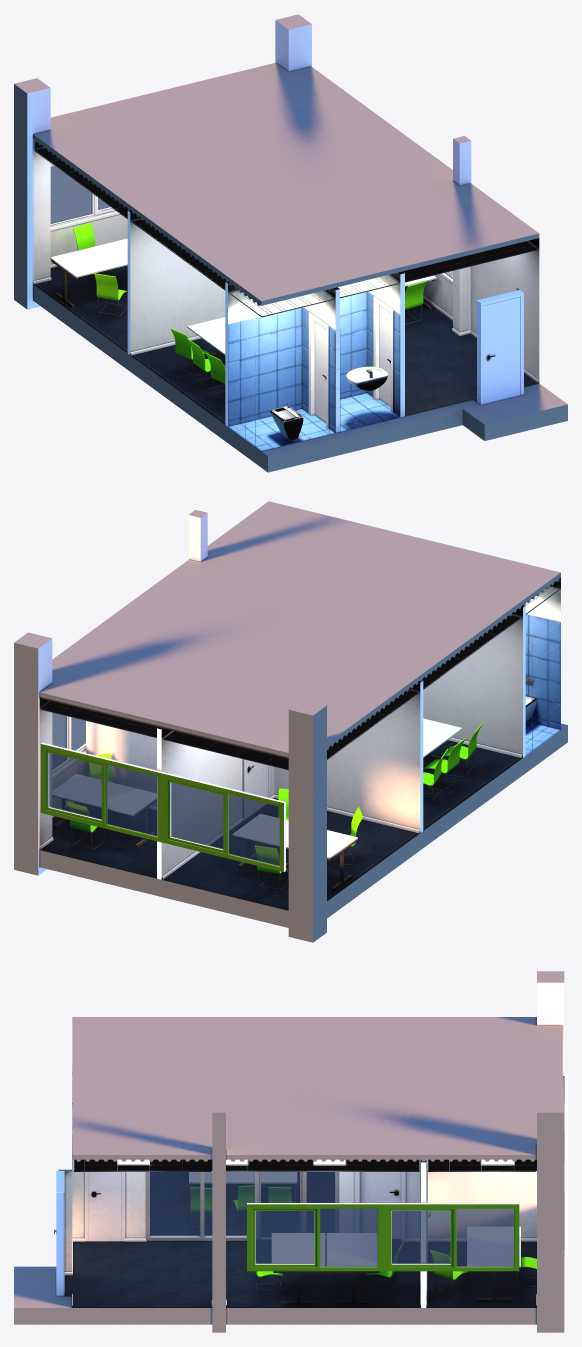
Rendered from model_1793217880_1faa40a1.glb.
3 views of the same model, one above another, from view 1: azimuth 30°, elevation 25°; view 2: azimuth 150°, elevation 25°; view 3: azimuth 270°, elevation 25° (orthographic). The views are drawn at different scales.
Visible parts, largest first — view 1: walls.005, furniture.005, ceiling.005; view 2: walls.005, furniture.005, ceiling.005; view 3: walls.005, furniture.005, ceiling.005.
Part boxes in pixels (x1,y1,x2,y2): walls.005: (14, 14, 567, 472); furniture.005: (50, 222, 436, 440); ceiling.005: (35, 148, 537, 317); walls.005: (14, 501, 567, 942); furniture.005: (52, 678, 536, 891); ceiling.005: (40, 588, 558, 770); walls.005: (14, 971, 567, 1332); furniture.005: (189, 1171, 536, 1305); ceiling.005: (73, 1159, 536, 1171).
Bounding box in the file's own units: 6.19 × 4.43 × 10.11.
Materials: 21 (18 with a texture image).
